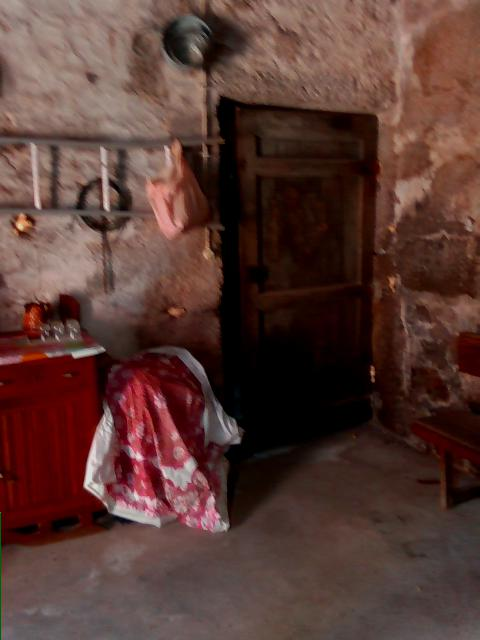closed_door: (215, 95, 381, 456)
